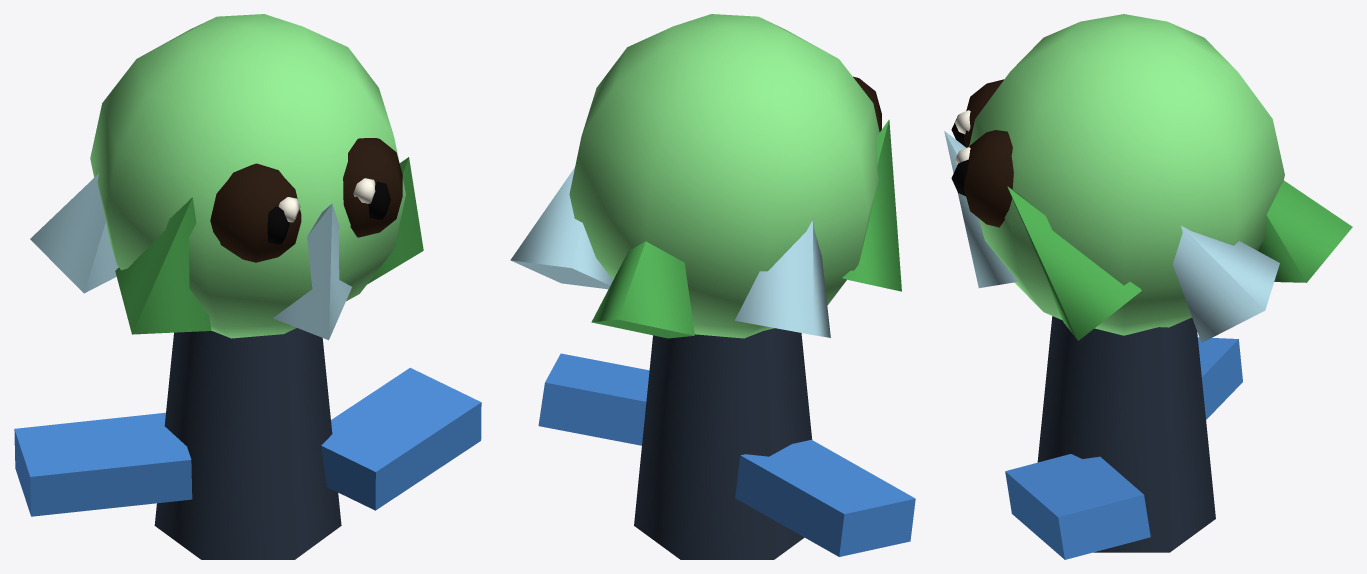
File: MeerimEatsA.glb
The picture shows the model from 3 angles, left to right: view 1: azimuth 30°, elevation 25°; view 2: azimuth 150°, elevation 25°; view 3: azimuth 270°, elevation 25°; orthographic projection.
Parts seen in each view (by area): view 1: MeerimEatsBody; view 2: MeerimEatsBody; view 3: MeerimEatsBody.
Part boxes in pixels (x1,y1,x2,y2): MeerimEatsBody: (14,14,481,559); MeerimEatsBody: (510,14,915,559); MeerimEatsBody: (944,14,1352,559).
Bounding box in the file's own units: 0.4015 × 0.47 × 0.3554.
